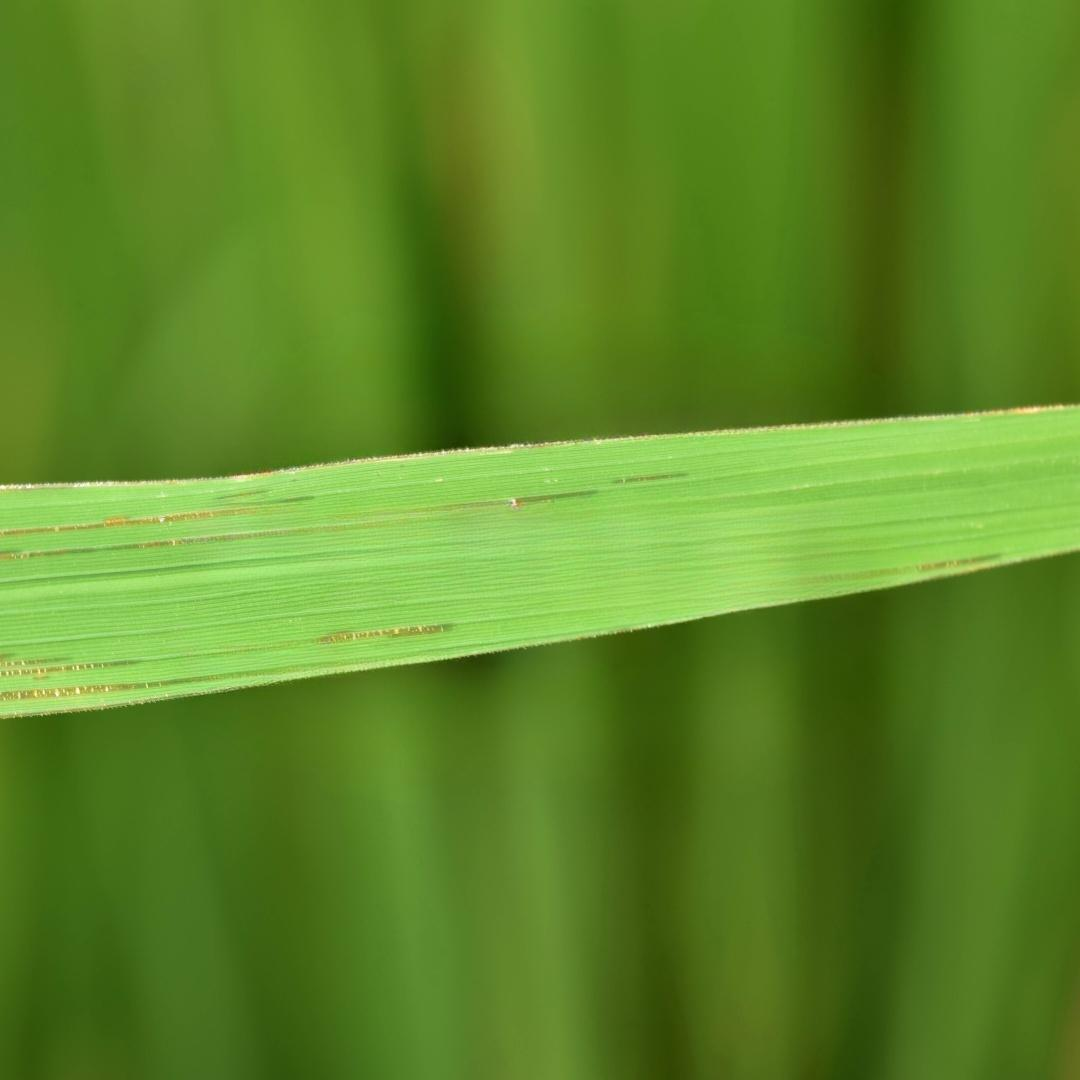BLS: (0, 518, 442, 560), (0, 662, 363, 701), (0, 509, 310, 536), (780, 553, 1003, 579), (361, 490, 598, 513), (307, 625, 454, 644), (0, 660, 150, 677), (610, 472, 691, 485), (0, 658, 72, 666)
LEAF: (0, 406, 1079, 718)
